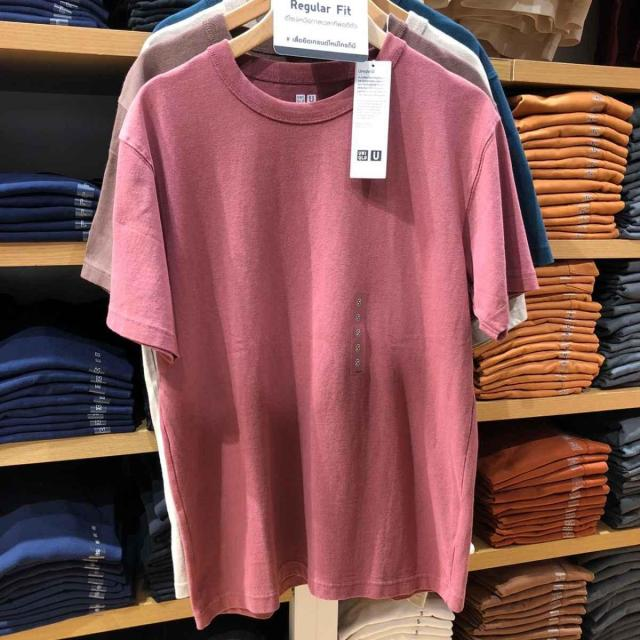Tshirt: (84, 35, 521, 637)
